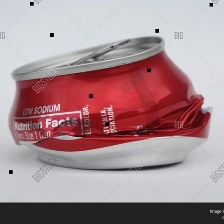can: (4, 27, 217, 176)
